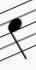HC: (5, 10, 29, 61)
